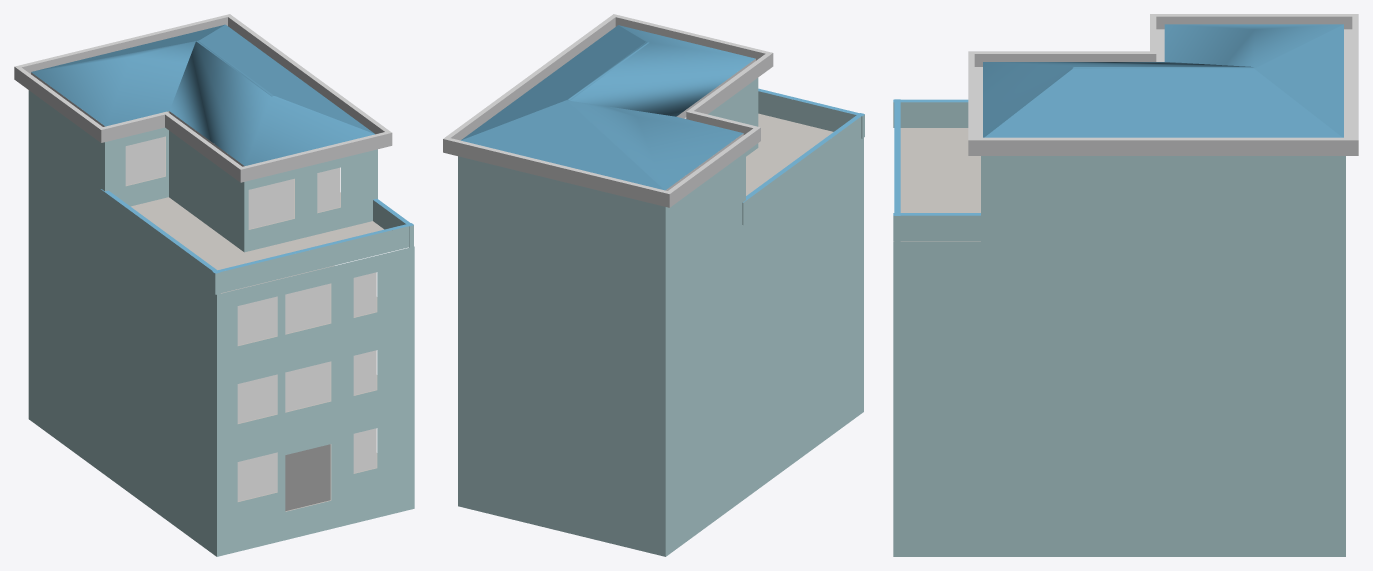
Rendered from house_type_e.glb.
The picture shows the model from 3 angles, left to right: view 1: azimuth 30°, elevation 25°; view 2: azimuth 150°, elevation 25°; view 3: azimuth 270°, elevation 25°; orthographic projection. The views are drawn at different scales.
Parts seen in each view (by area): view 1: roof0; view 2: roof0; view 3: roof0.
Part boxes in pixels (x1,y1,x2,y2): roof0: (14,14,414,556); roof0: (443,14,864,556); roof0: (893,14,1358,556).
Size of the model in its own units: 95.46 by 159 by 148.
